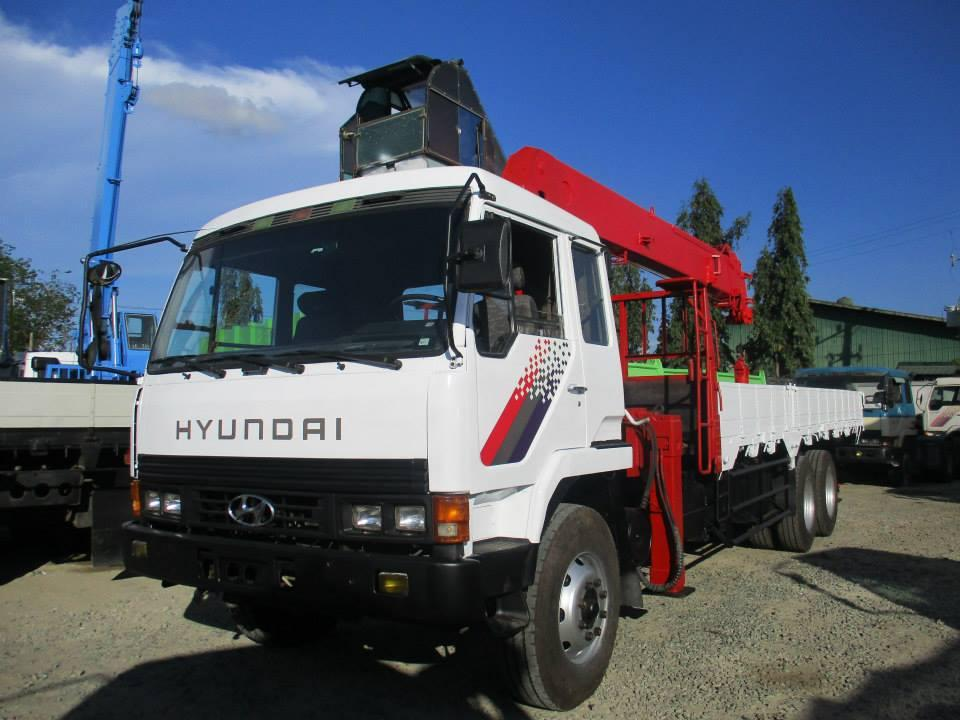Truck: (129, 55, 866, 720)
